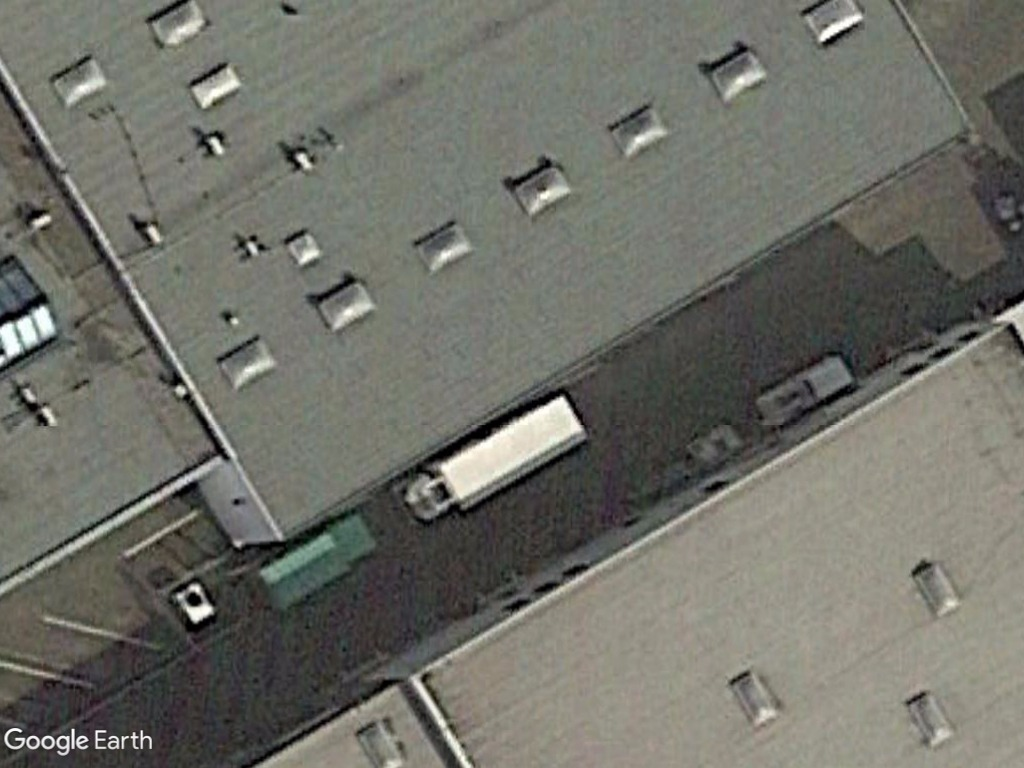truck: (389, 384, 592, 531)
